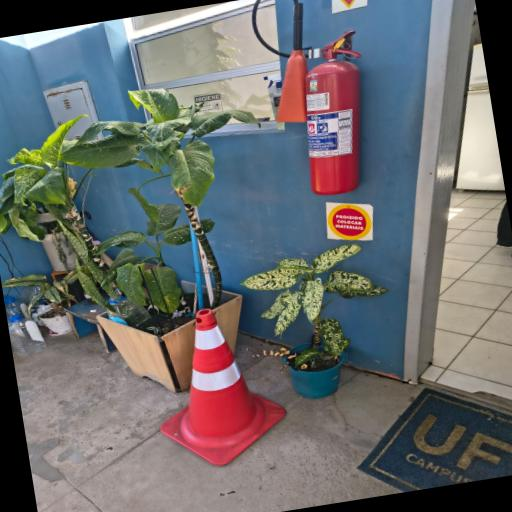cone: (142, 298, 294, 468)
